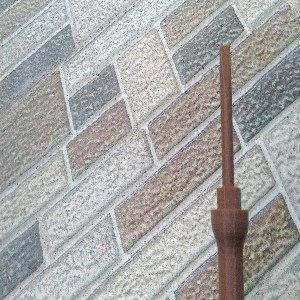obeng: (210, 44, 250, 300)
